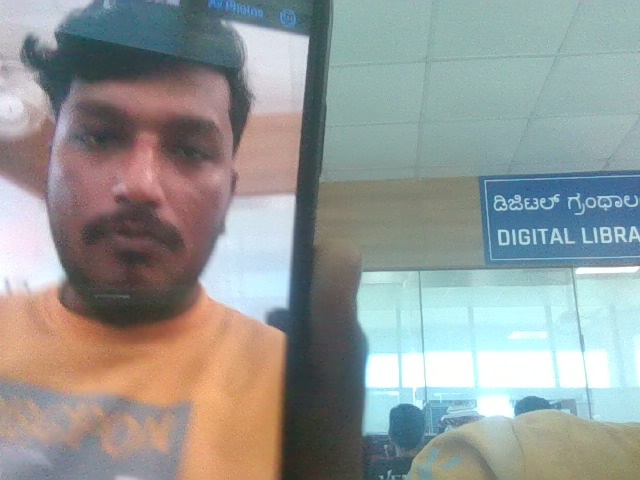fake: (13, 0, 268, 362)
